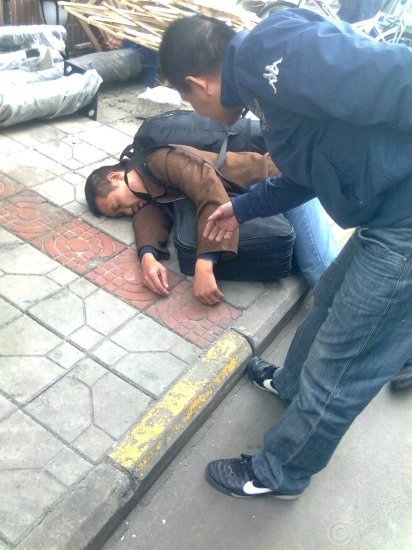falling: (80, 120, 325, 313)
